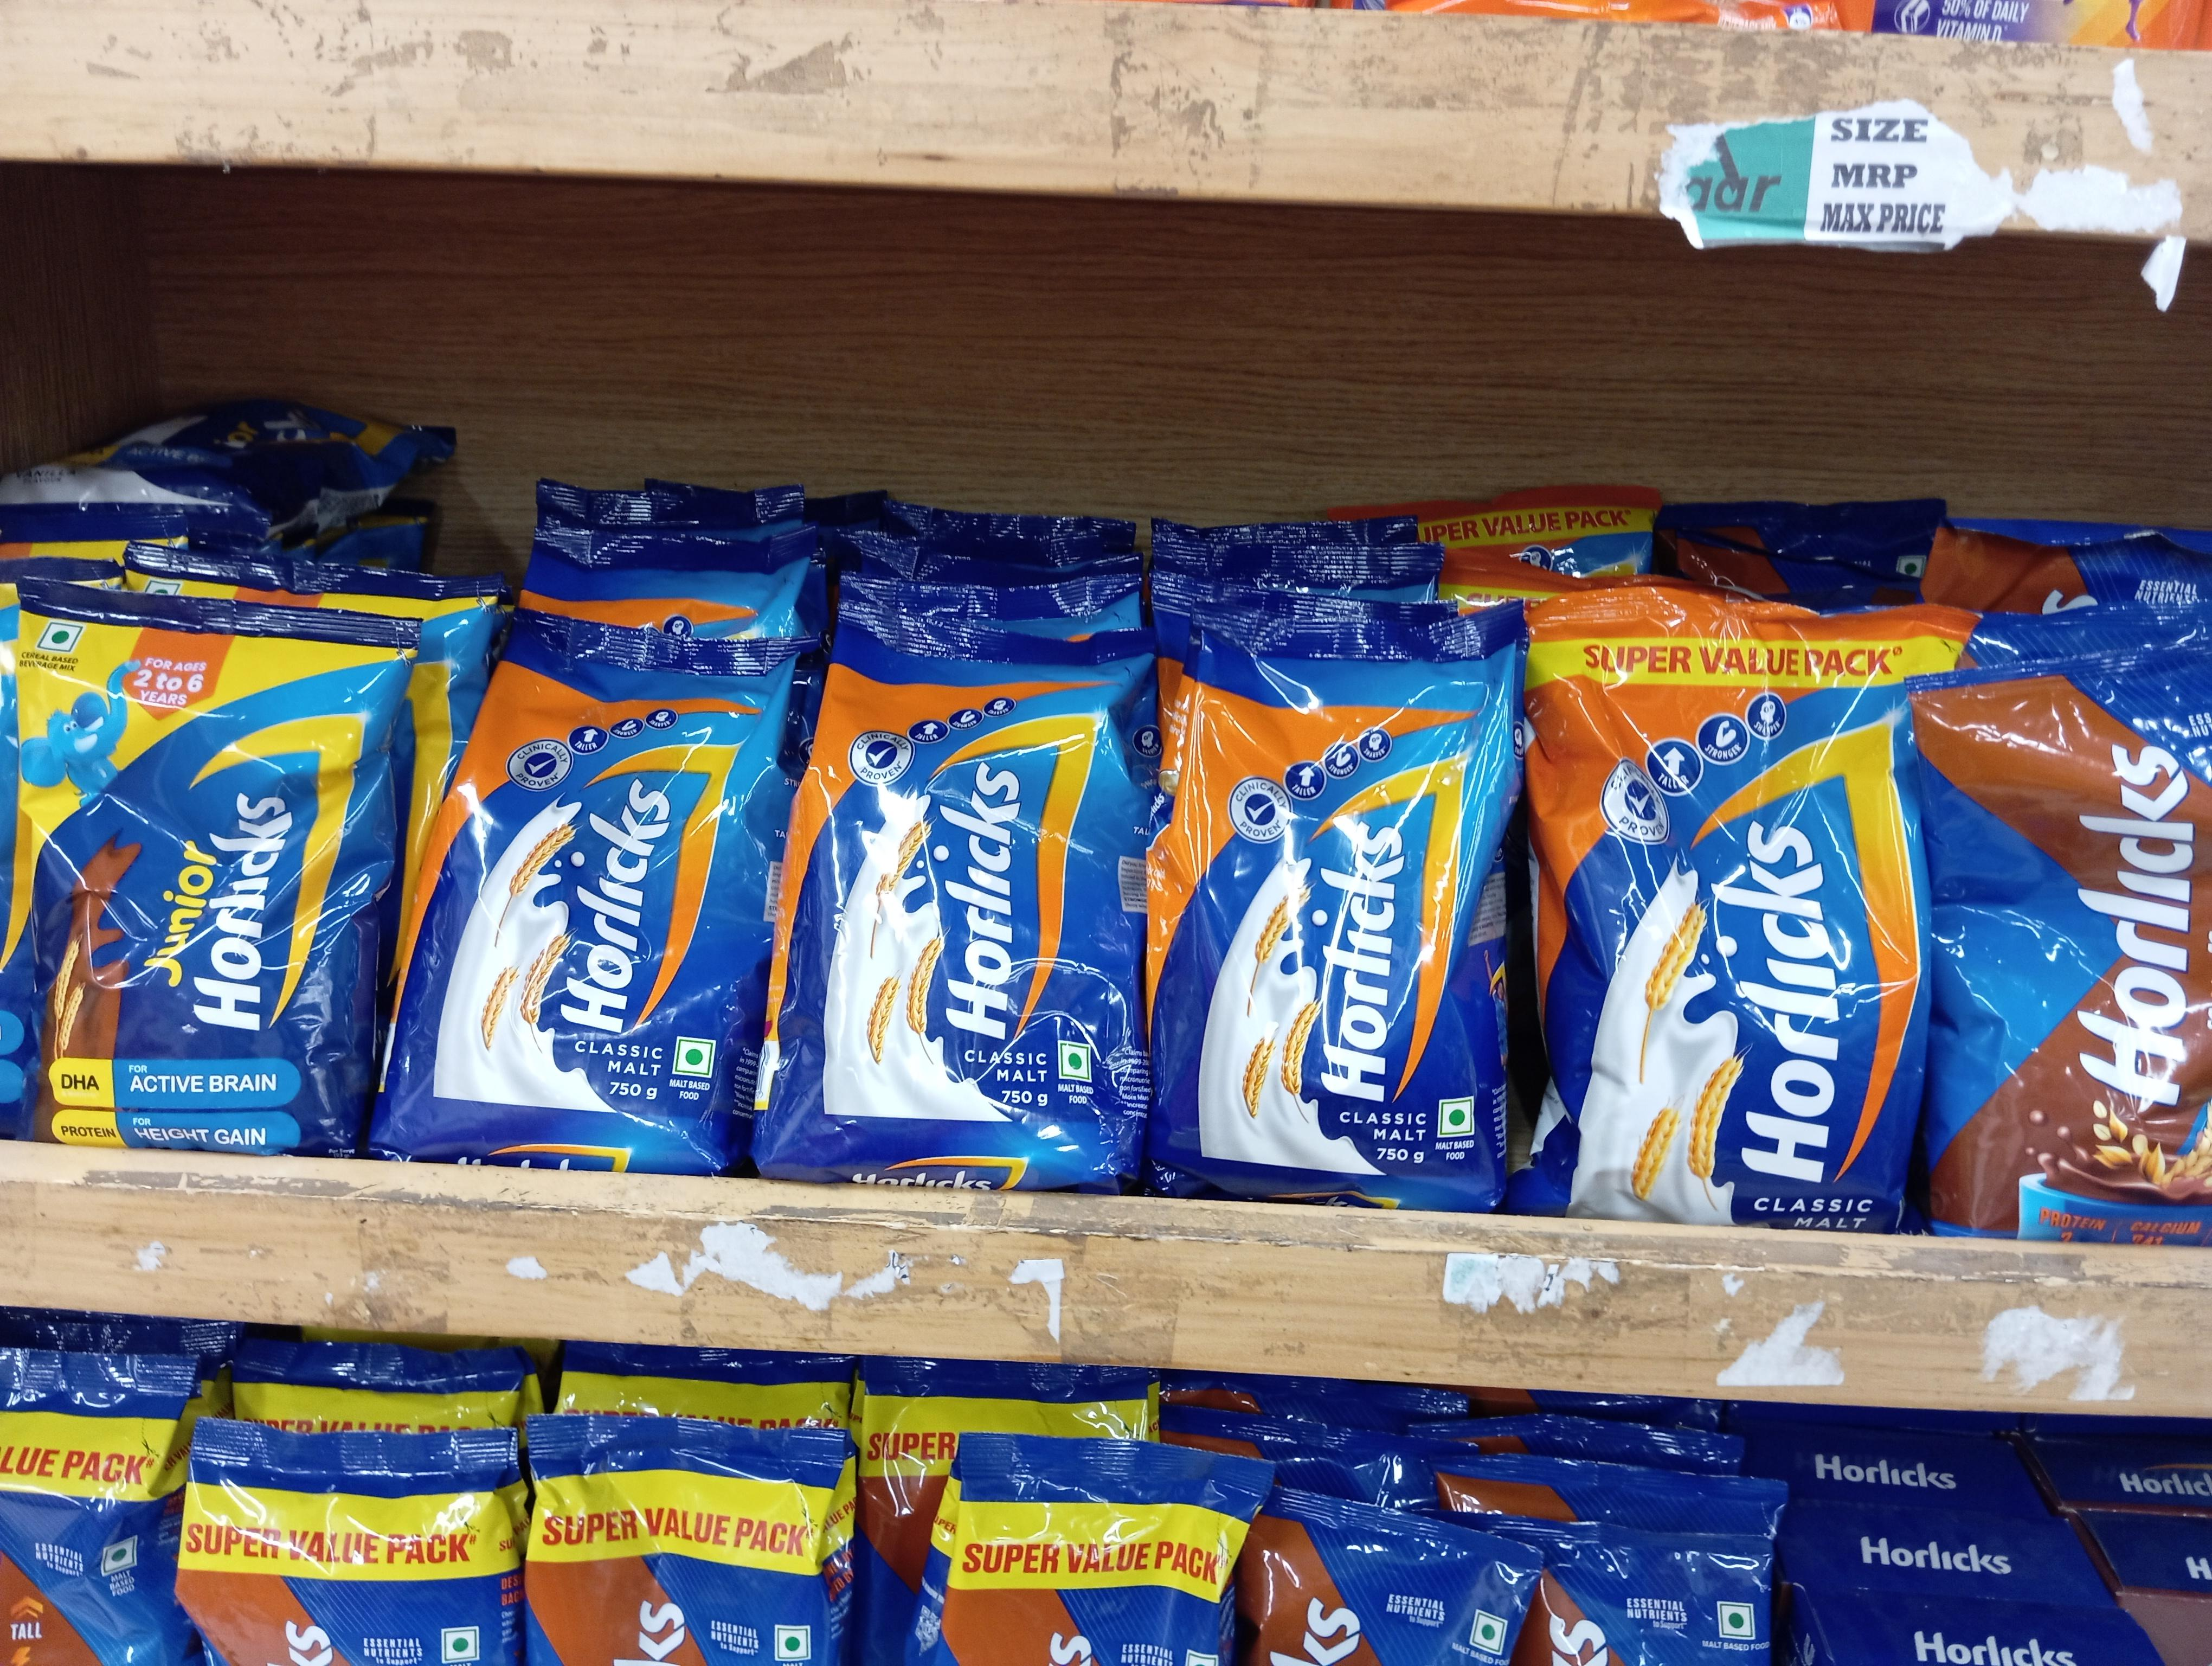HORLICK_CLASSIC_MALT_750_G_POUCH: (1537, 598, 1913, 1236), (787, 620, 1142, 1193), (397, 595, 738, 1152), (1159, 606, 1481, 1192)
